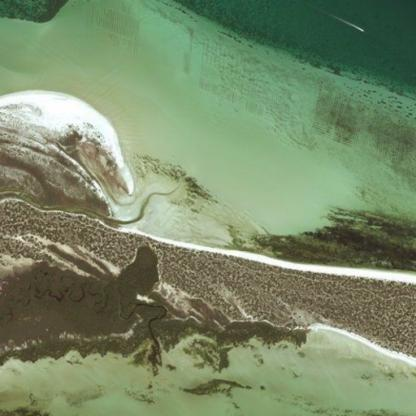ship: (361, 29, 364, 32)
